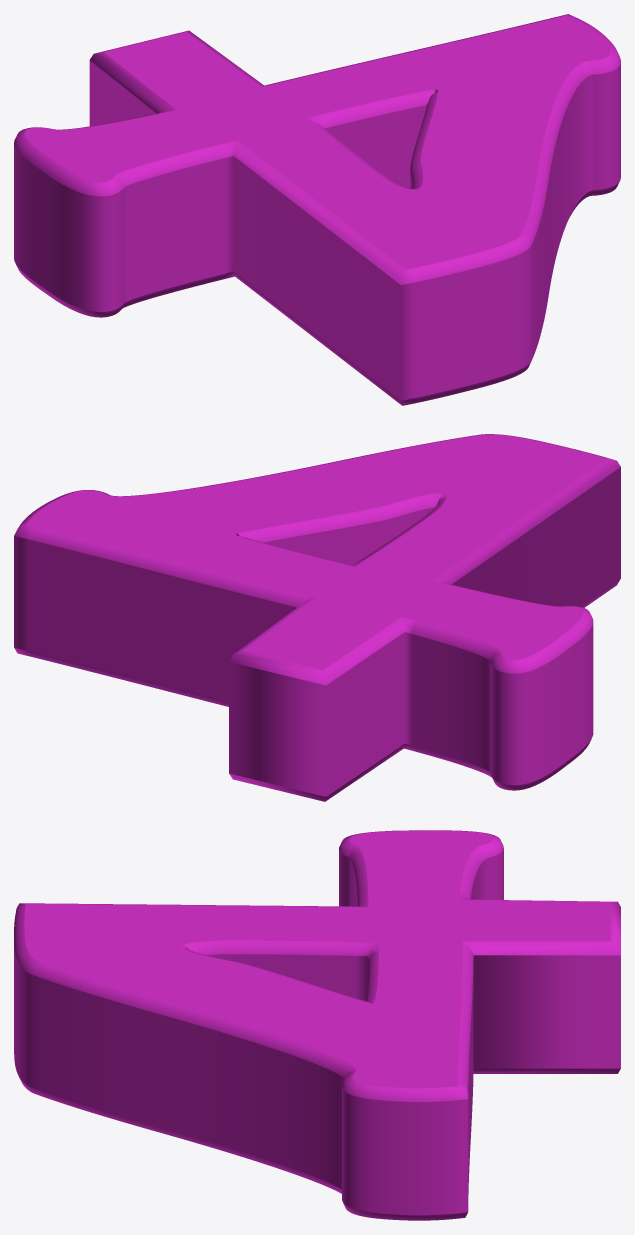
Rendered from Bubble_Number4.fbx.
The picture shows the model from 3 angles, top to bottom: view 1: azimuth 30°, elevation 25°; view 2: azimuth 150°, elevation 25°; view 3: azimuth 270°, elevation 25°; orthographic projection. The views are drawn at different scales.
Parts seen in each view (by area): view 1: BubbleNumber_4; view 2: BubbleNumber_4; view 3: BubbleNumber_4.
Part boxes in pixels (x1,y1,x2,y2): BubbleNumber_4: [14, 14, 620, 405]; BubbleNumber_4: [14, 434, 620, 801]; BubbleNumber_4: [14, 830, 620, 1220].
Size of the model in its own units: 0.6053 by 0.14 by 0.583.
